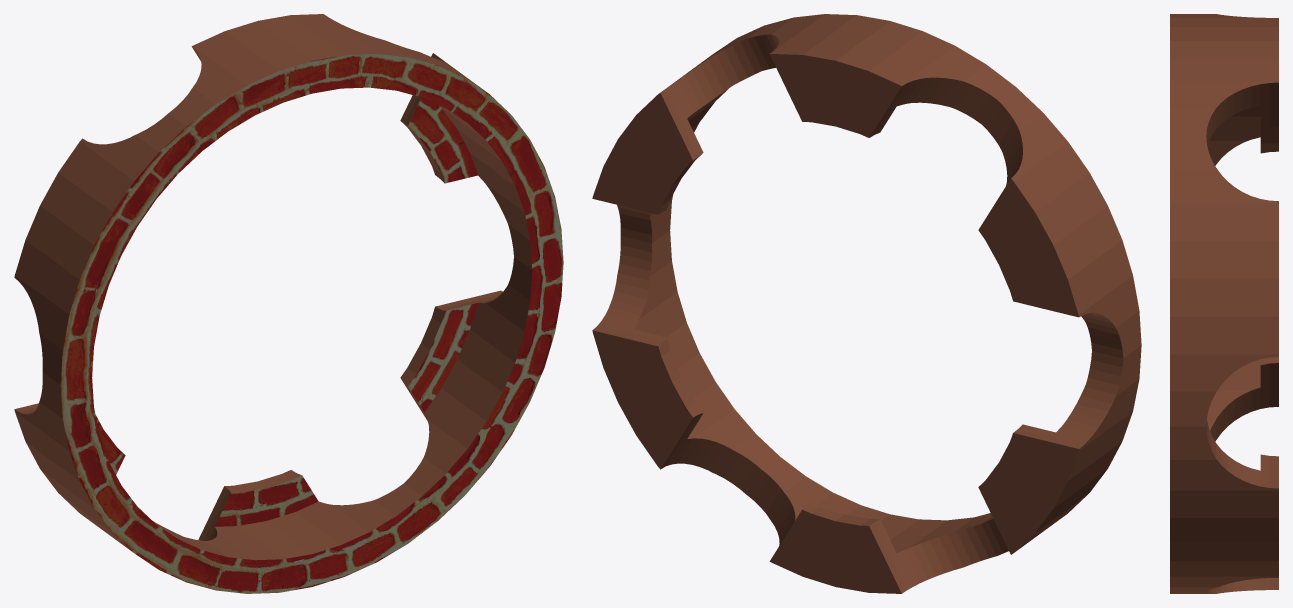
Rendered from pool_055.obj.
3 renders of one model, left to right at view 1: azimuth 30°, elevation 25°; view 2: azimuth 150°, elevation 25°; view 3: azimuth 270°, elevation 25°, orthographic.
Bounding box in the file's own units: 16 × 16 × 3.
